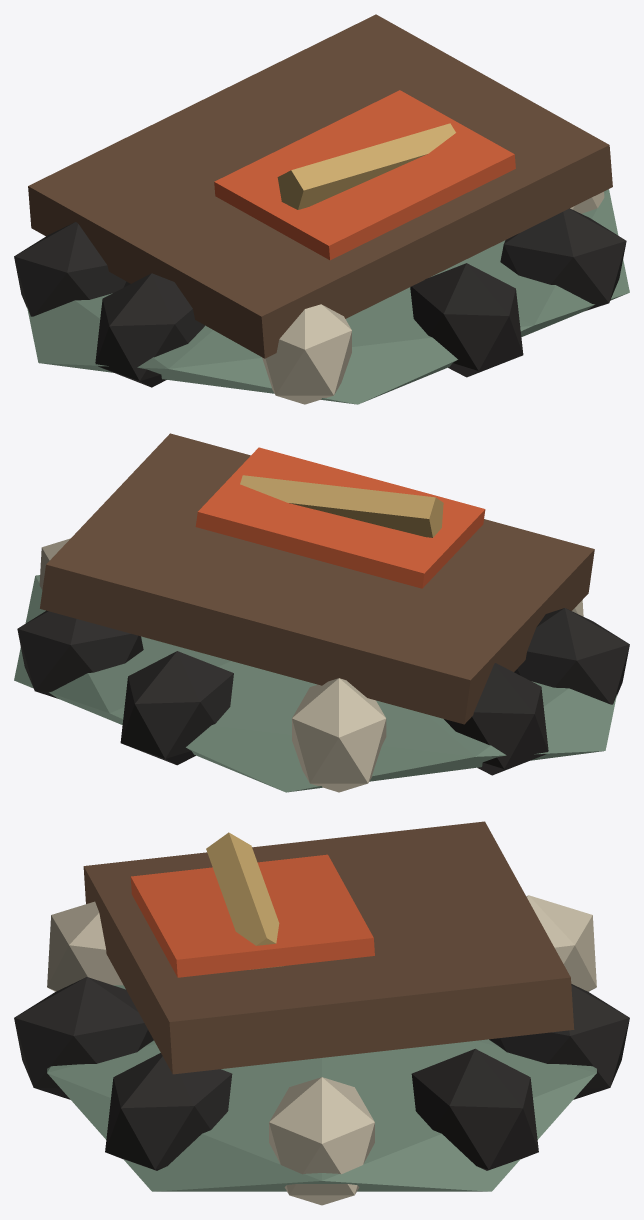
Rendered from obsidian_cache.glb.
3 renders of one model, top to bottom at view 1: azimuth 30°, elevation 25°; view 2: azimuth 150°, elevation 25°; view 3: azimuth 270°, elevation 25°, orthographic. The views are drawn at different scales.
Visible parts, largest first — view 1: obsidian_cache; view 2: obsidian_cache; view 3: obsidian_cache.
Boxes of the visible parts, x1,y1,x2,y2 form: obsidian_cache: (14, 14, 629, 404); obsidian_cache: (14, 433, 629, 792); obsidian_cache: (14, 821, 629, 1205).
Bounding box in the file's own units: 2.14 × 0.6949 × 1.78.
